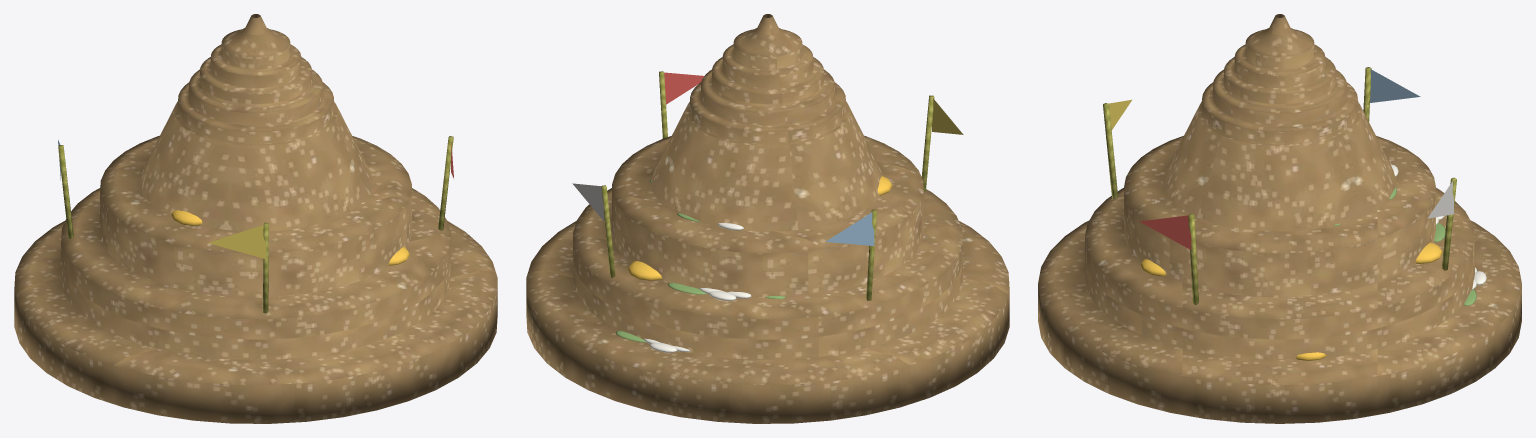
The model's file is gourd-prop-sand-stupa.glb.
The picture shows the model from 3 angles, left to right: view 1: azimuth 30°, elevation 25°; view 2: azimuth 150°, elevation 25°; view 3: azimuth 270°, elevation 25°; orthographic projection.
Parts seen in each view (by area): view 1: sand, poles, flag1, marigolds; view 2: sand, poles, flag2, frangipani, flag0, marigolds, flag1, leaves, flag3; view 3: sand, poles, flag0, flag2, marigolds, flag3.
Boxes of the visible parts, x1=… form: sand: x1=14, y1=14, x2=497, y2=423; poles: x1=58, y1=136, x2=453, y2=313; flag1: x1=208, y1=225, x2=266, y2=258; marigolds: x1=171, y1=210, x2=409, y2=265; sand: x1=526, y1=14, x2=1009, y2=423; poles: x1=601, y1=71, x2=934, y2=300; flag2: x1=825, y1=212, x2=874, y2=245; frangipani: x1=644, y1=223, x2=751, y2=352; flag0: x1=664, y1=72, x2=703, y2=104; marigolds: x1=627, y1=176, x2=892, y2=280; flag1: x1=932, y1=98, x2=963, y2=134; leaves: x1=616, y1=180, x2=785, y2=342; flag3: x1=572, y1=183, x2=603, y2=221; sand: x1=1038, y1=14, x2=1521, y2=423; poles: x1=1103, y1=67, x2=1456, y2=304; flag0: x1=1139, y1=215, x2=1191, y2=249; flag2: x1=1370, y1=69, x2=1420, y2=102; marigolds: x1=1140, y1=242, x2=1442, y2=360; flag3: x1=1427, y1=181, x2=1453, y2=218.
Size of the model in its own units: 0.1145 by 0.0799 by 0.1145.
Materials: 9 (2 with a texture image).
